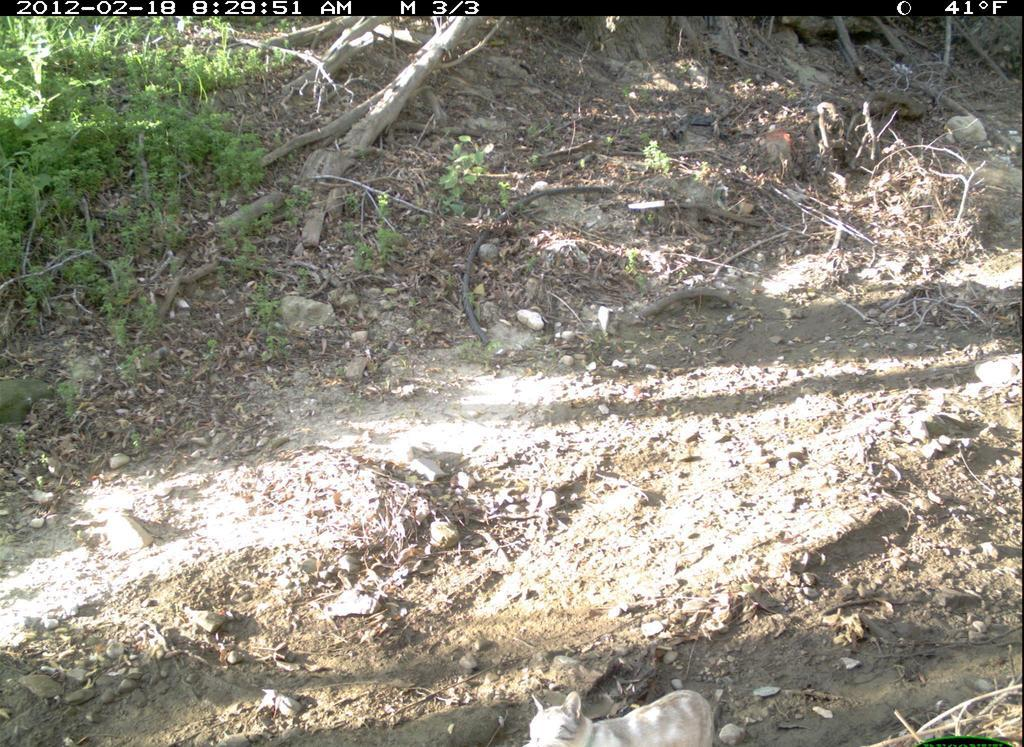cat: (515, 673, 729, 747)
